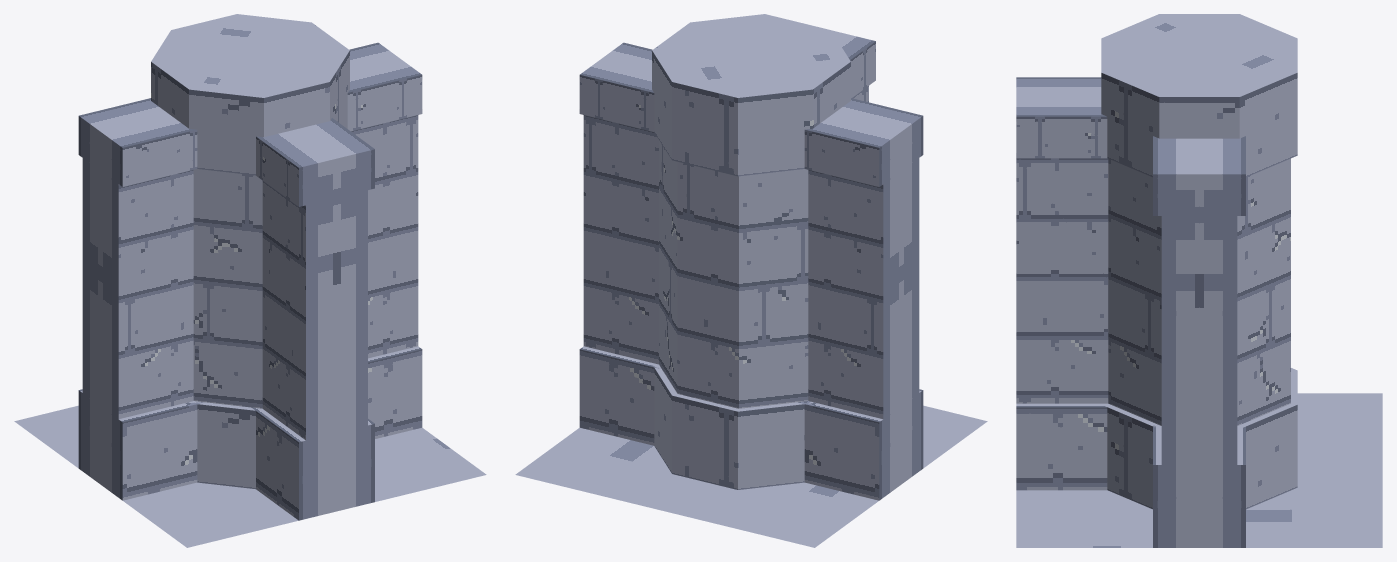
Rendered from Pilar_Wall_T.fbx.
3 renders of one model, left to right at view 1: azimuth 30°, elevation 25°; view 2: azimuth 150°, elevation 25°; view 3: azimuth 270°, elevation 25°, orthographic. The views are drawn at different scales.
Parts seen in each view (by area): view 1: Pilar_Wall_T; view 2: Pilar_Wall_T; view 3: Pilar_Wall_T.
Boxes of the visible parts, x1,y1,x2,y2 form: Pilar_Wall_T: [14, 14, 486, 547]; Pilar_Wall_T: [515, 14, 987, 547]; Pilar_Wall_T: [1016, 14, 1382, 547].
Bounding box in the file's own units: 200 × 250 × 200.
